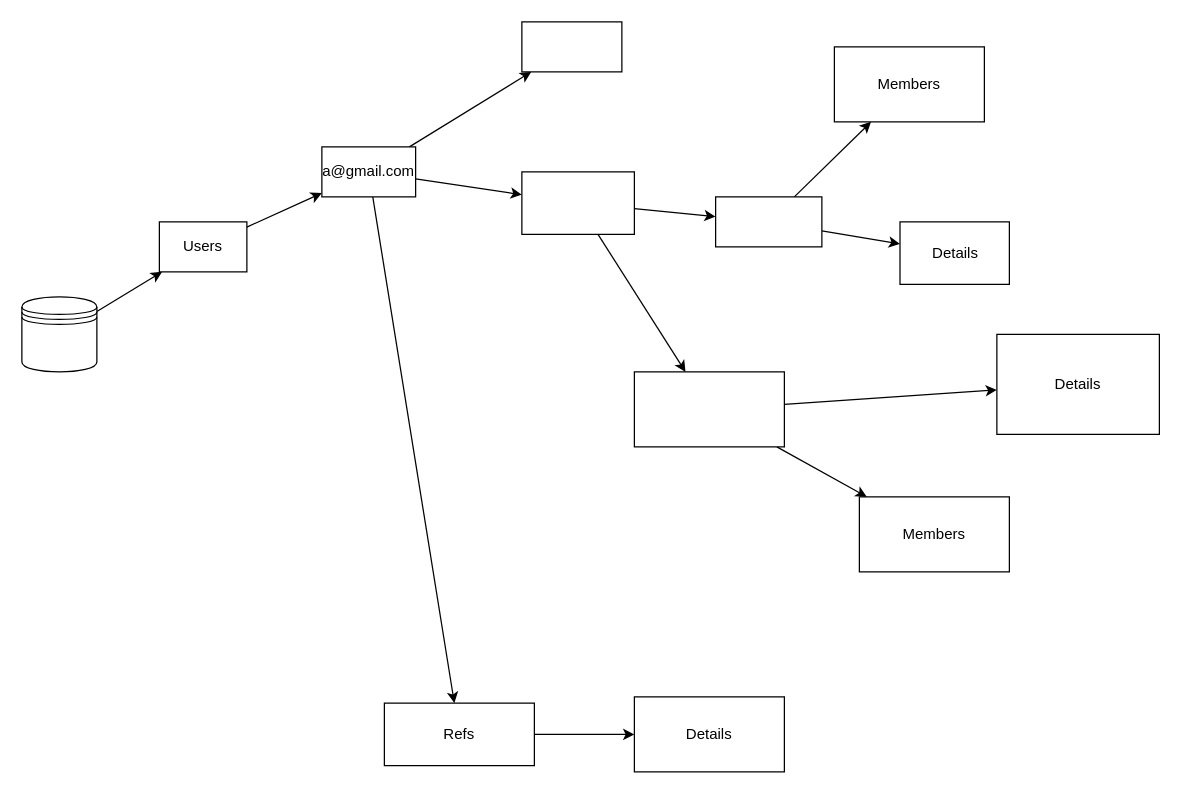
Image size: 1181x794. Some labels were removed from this diagram. The shapes that lost their labels are listed below. From the top down, each one's box as (x1, y1, x2, y2) in pixels, then its label:
(521, 21, 622, 72): name, email, avatar
(521, 171, 634, 234): Projects
(714, 196, 822, 247): floods
(633, 371, 784, 447): Drought
